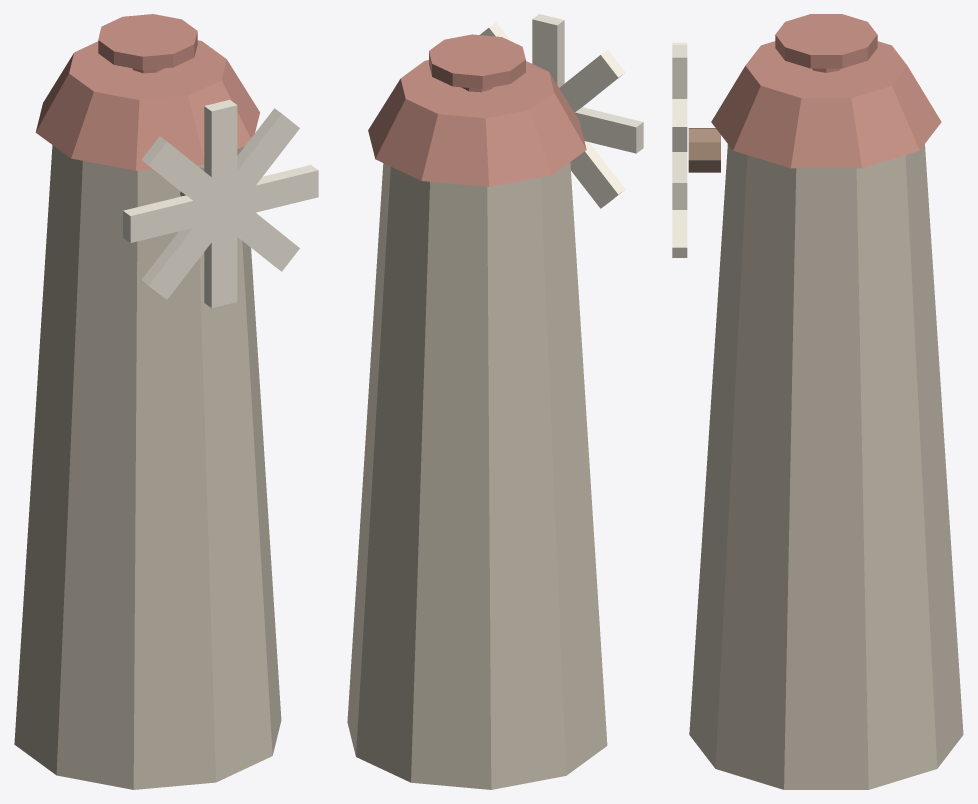
File: windmill_cap_near-slLu4iLk.glb
The picture shows the model from 3 angles, left to right: view 1: azimuth 30°, elevation 25°; view 2: azimuth 150°, elevation 25°; view 3: azimuth 270°, elevation 25°; orthographic projection. The views are drawn at different scales.
Parts seen in each view (by area): view 1: windmill_cap_near; view 2: windmill_cap_near; view 3: windmill_cap_near.
Boxes of the visible parts, bbox=[...] form: windmill_cap_near: bbox=[14, 14, 318, 789]; windmill_cap_near: bbox=[347, 14, 643, 789]; windmill_cap_near: bbox=[672, 14, 963, 789].
Size of the model in its own units: 4.18 by 12.4 by 4.67.
